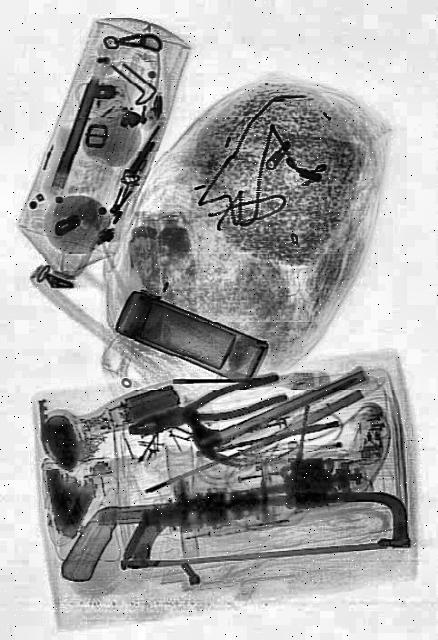Pliers: (125, 373, 287, 451)
